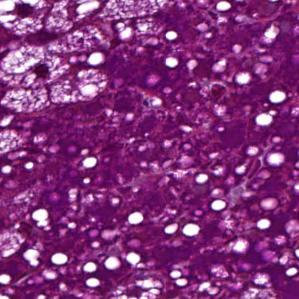ballooning: (4, 45, 70, 92), (4, 3, 48, 36)
